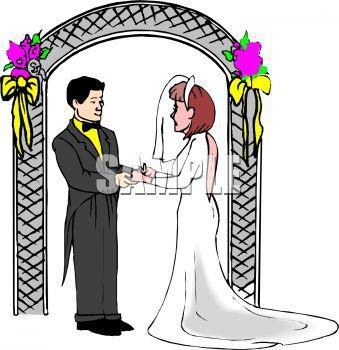person: (140, 77, 230, 342), (49, 76, 137, 334)
